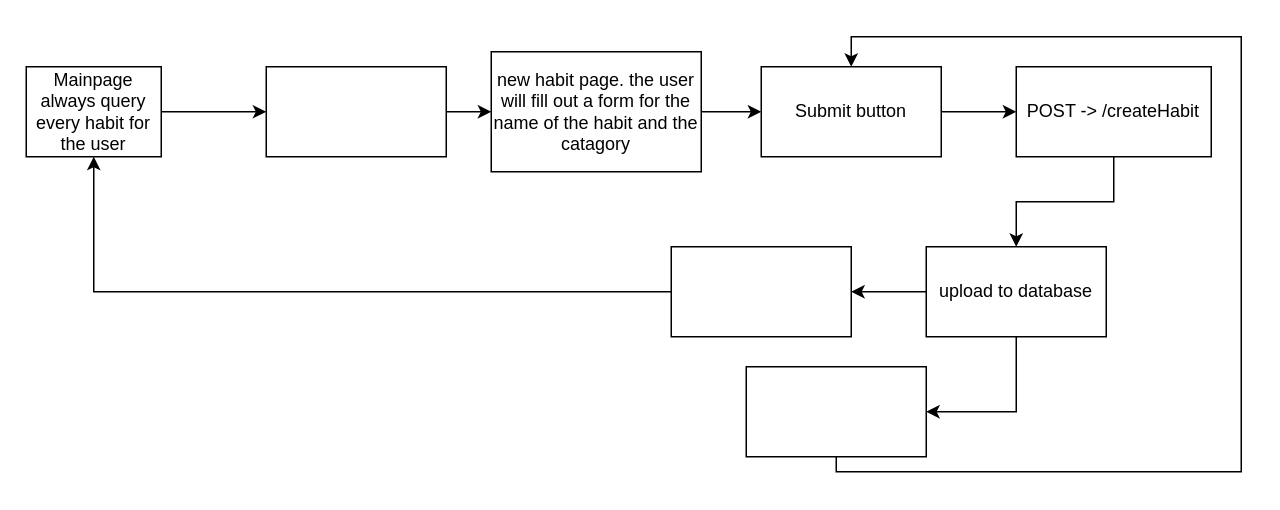
This 1280x510 diagram has some shape labels left out. Here are the shapes that lost their labels. From the top down, the centre of each, then its label:
(355,111): add habit button (+)
(760,291): On success redirect to mainpage
(835,411): On fail, do not redirect just warn the user of the error in a popup
